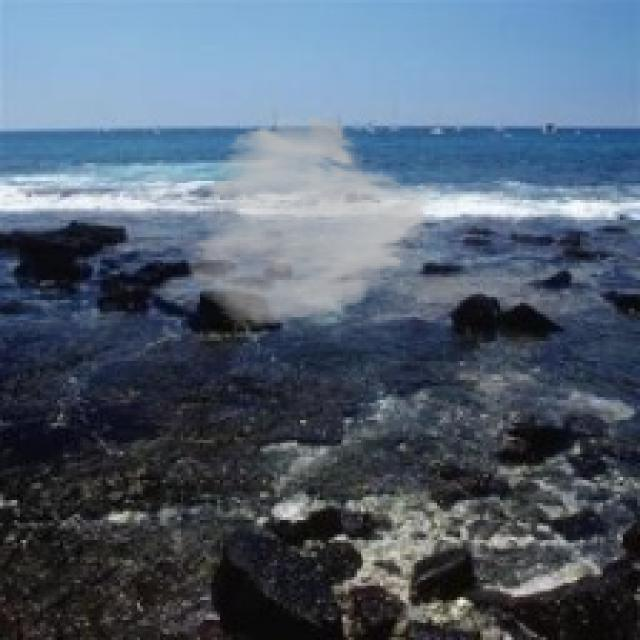Smoke: (183, 112, 446, 328)
